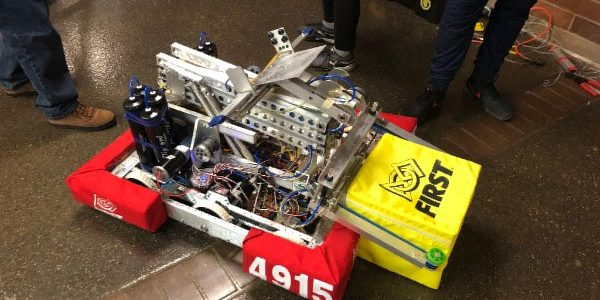cube: (344, 132, 482, 292)
